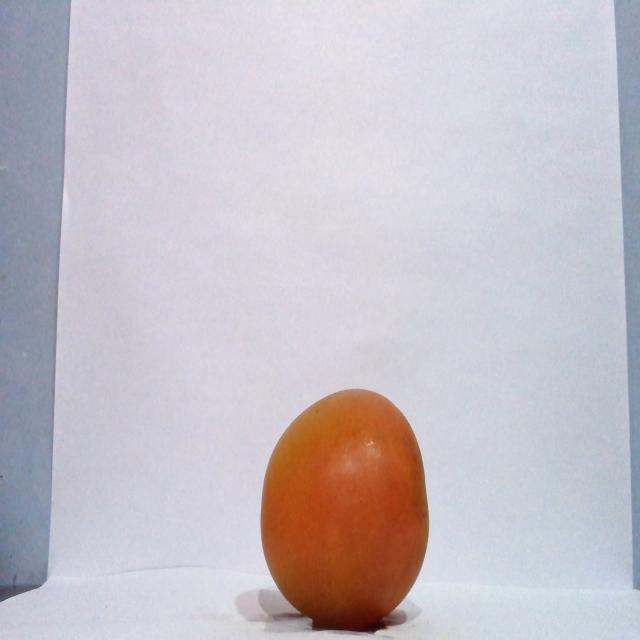Red: (258, 386, 430, 630)
